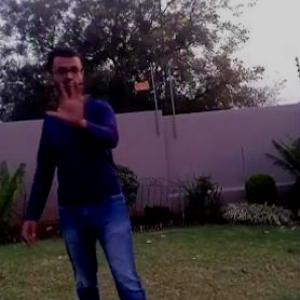follow_hand: (47, 79, 95, 125)
